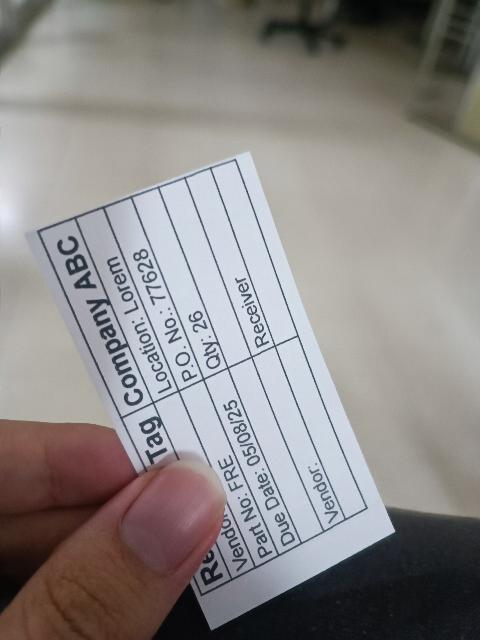PO no: (104, 196, 203, 393)
part no: (179, 378, 281, 566)
qty: (131, 186, 231, 382)
tags: (23, 152, 396, 633)
